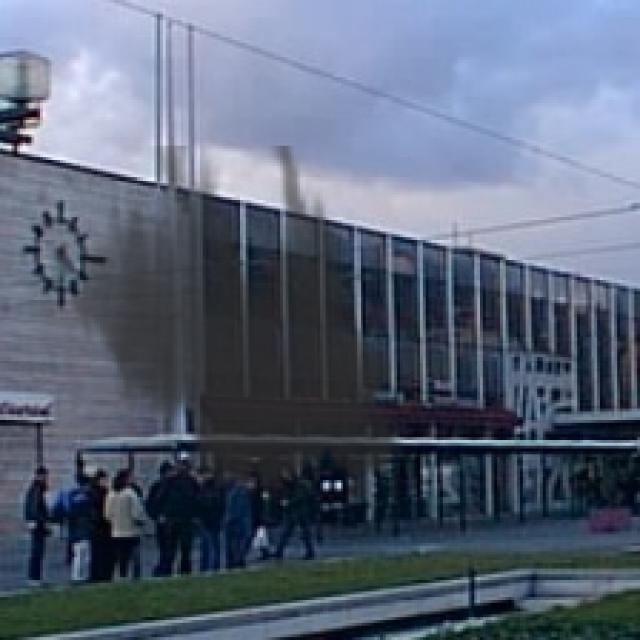smoke: (63, 146, 417, 511)
